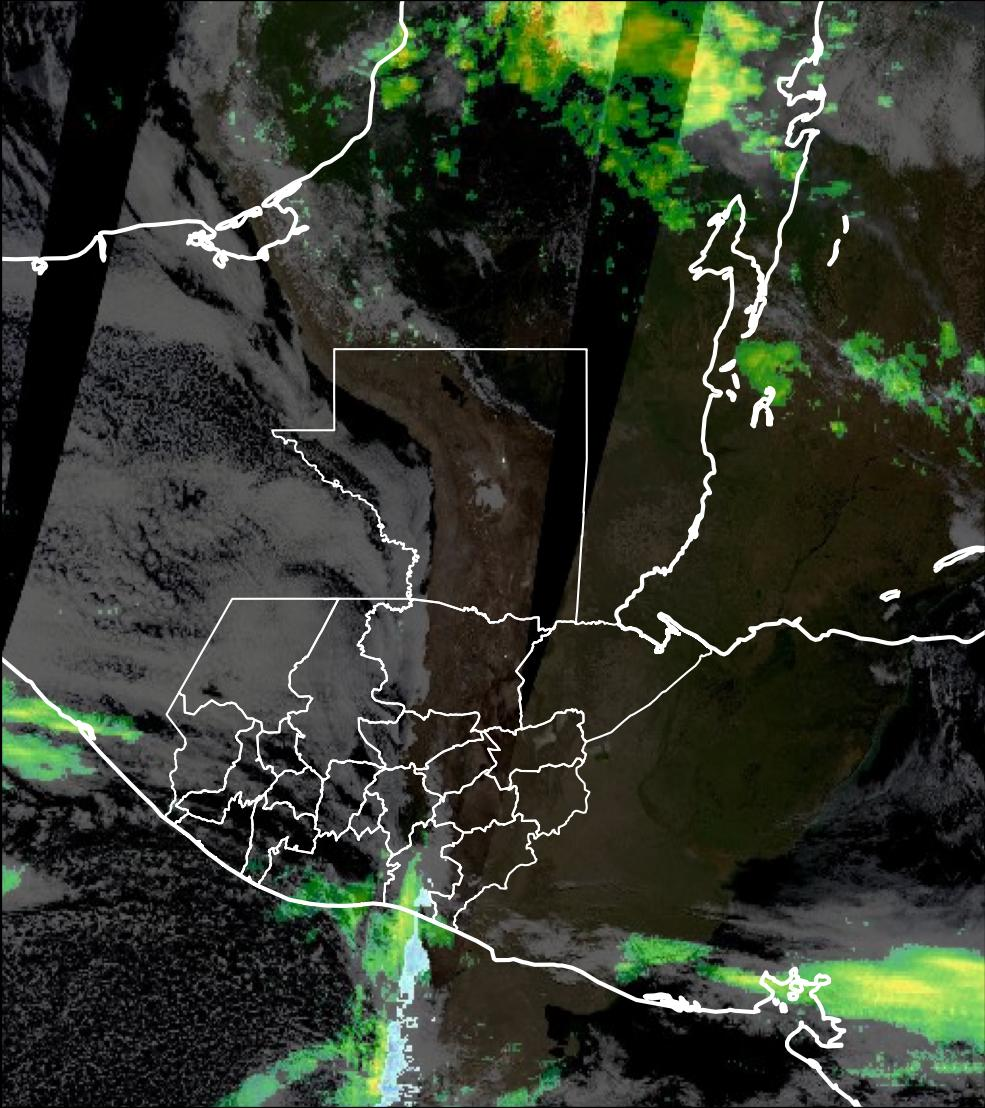precipitacion: (509, 1, 641, 86)
